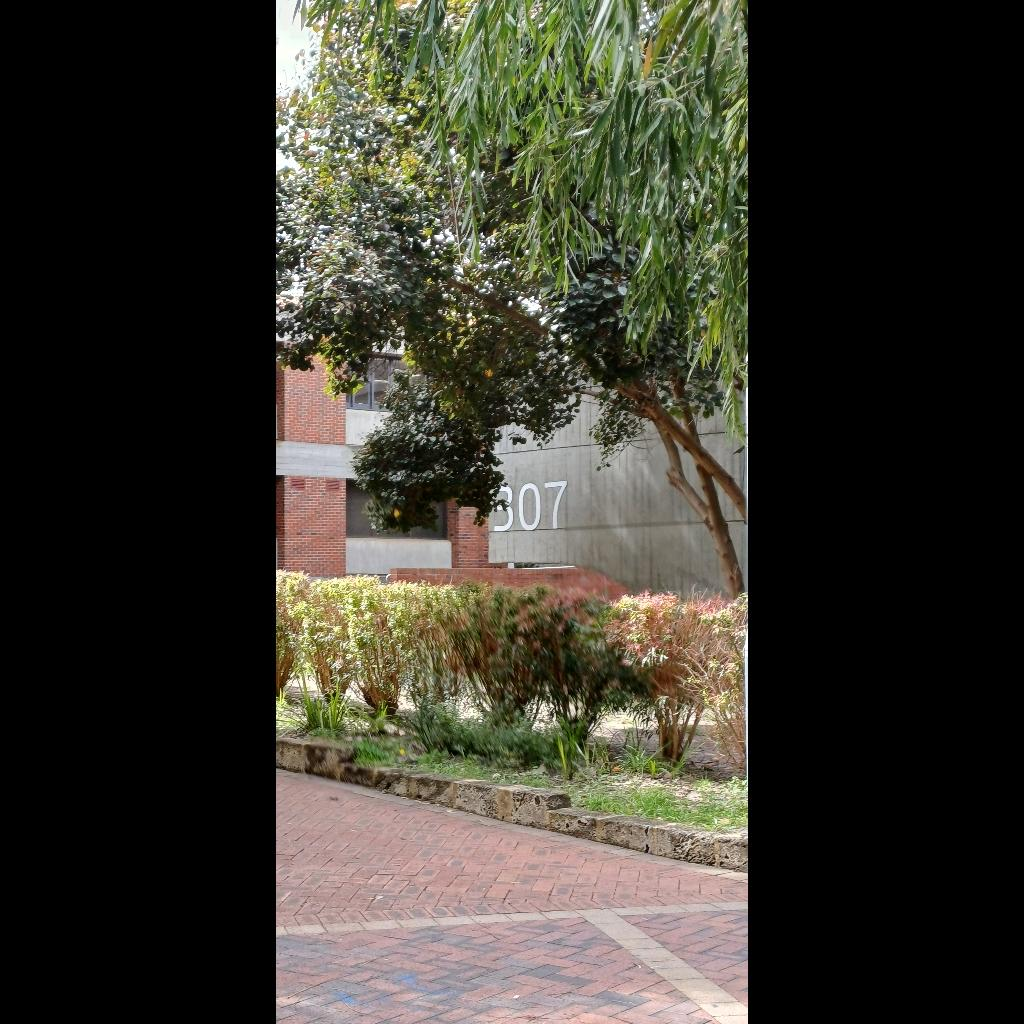BuildingCodes: (483, 475, 573, 537)
